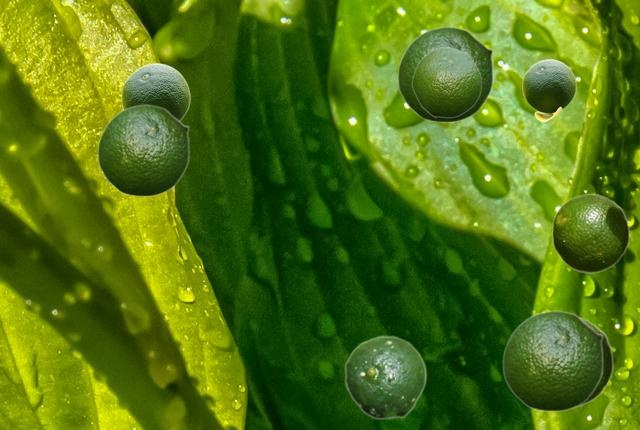calamansi: (502, 310, 603, 411), (397, 26, 493, 122), (97, 104, 189, 196), (344, 335, 426, 419), (551, 193, 629, 272), (411, 46, 481, 117), (121, 63, 189, 120), (522, 59, 575, 121), (578, 317, 613, 407)
